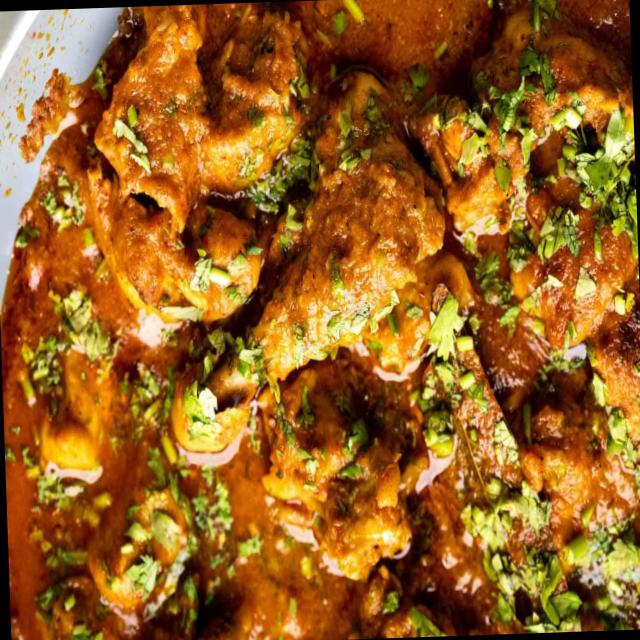chicken: (8, 0, 640, 635)
